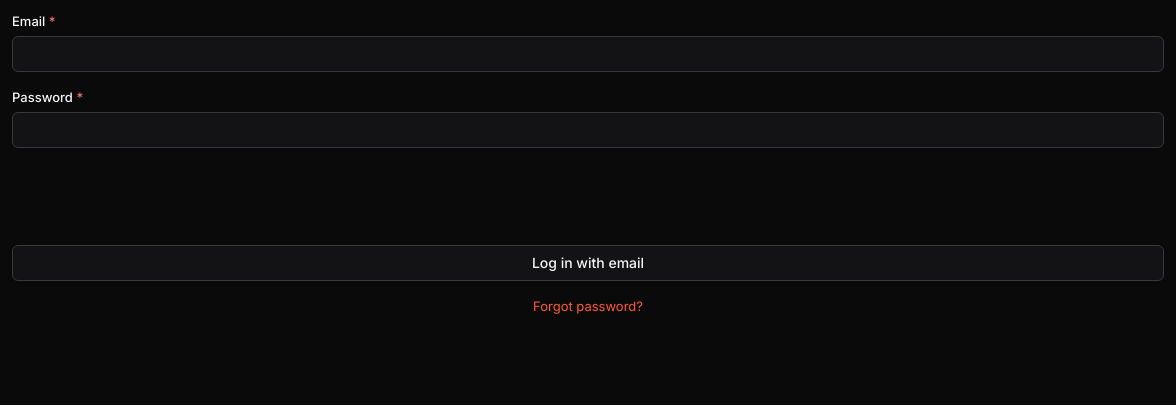
Test case: LoginForm › offers 'verify first' with a resend when the password was right
Click the button "Log in with email" at (588, 263), box [12,245,1164,281]
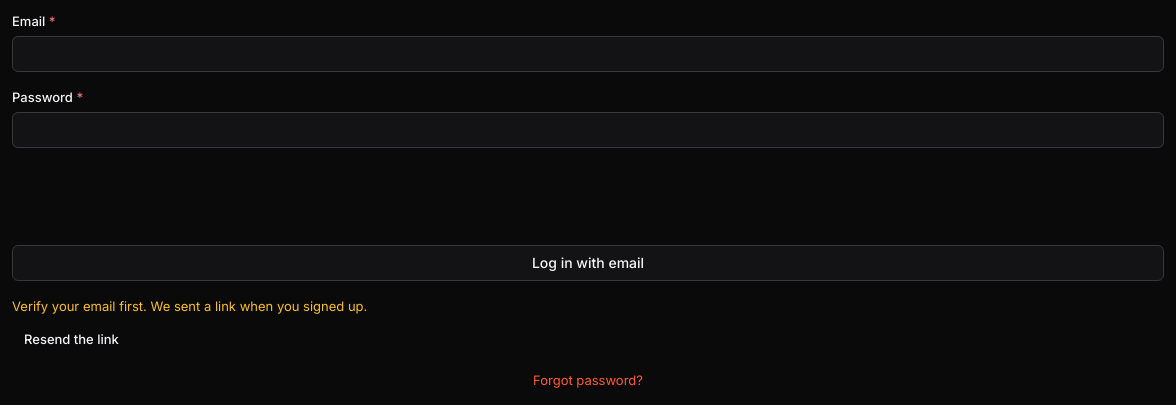
Check: the text "Verify your email first. We sent a link when you signed up." is shown, box [12,298,367,314]
Click the button "Resend the link" at (71, 339), box [12,323,131,355]
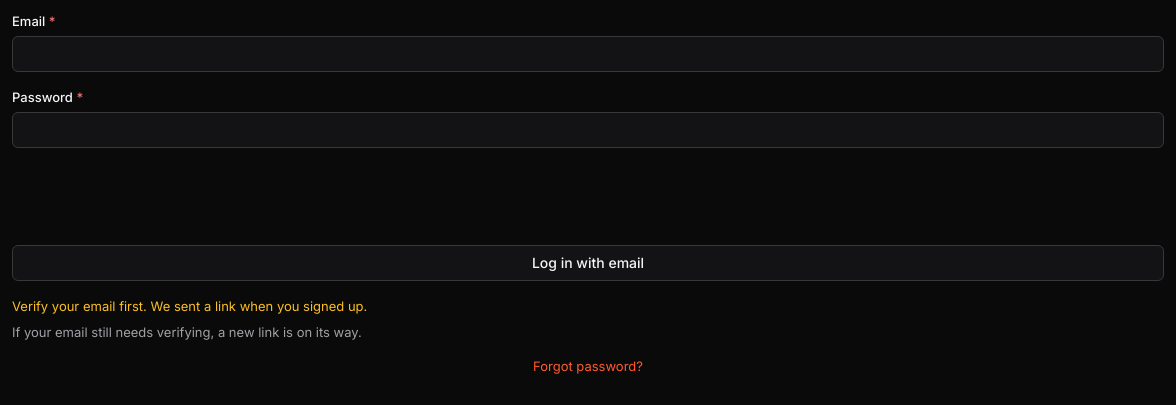
Check: the text "a new link is on its way" is shown, box [12,324,362,340]
